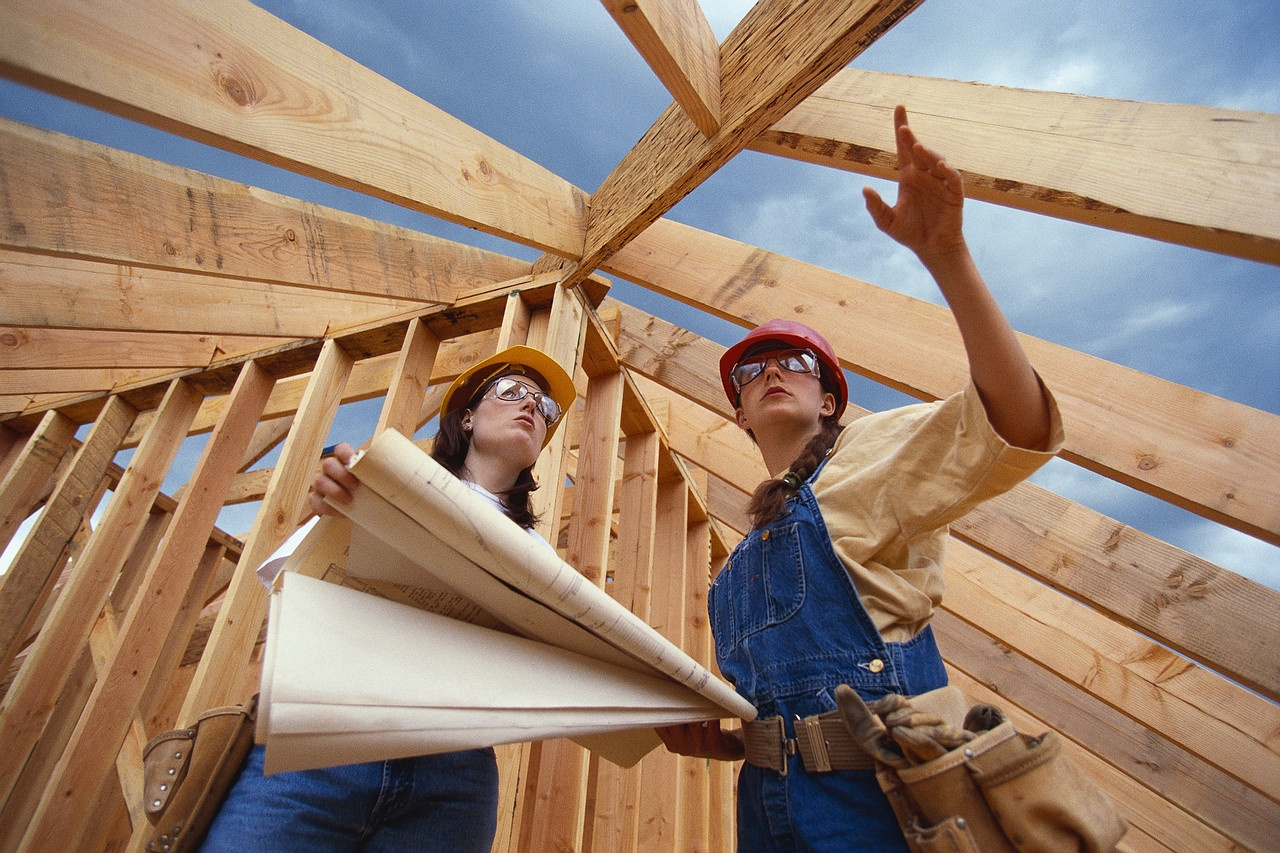red: (718, 315, 853, 451)
yellow: (433, 338, 575, 485)
